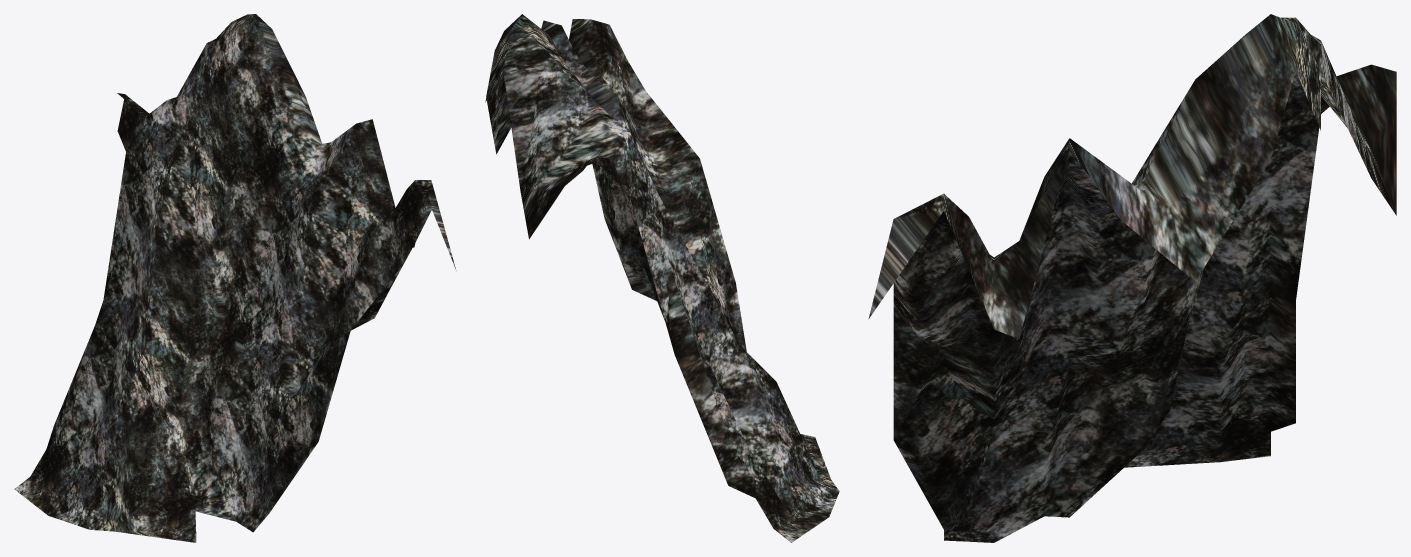
The model's file is OVERHILL_A_01_OBJECT10.fbx.
3 renders of one model, left to right at view 1: azimuth 30°, elevation 25°; view 2: azimuth 150°, elevation 25°; view 3: azimuth 270°, elevation 25°, orthographic. The views are drawn at different scales.
Parts seen in each view (by area): view 1: OVERHILL_A_01_OBJECT10; view 2: OVERHILL_A_01_OBJECT10; view 3: OVERHILL_A_01_OBJECT10.
Boxes of the visible parts, box(x1,y1,x2,y2) form: OVERHILL_A_01_OBJECT10: box(14, 14, 456, 542); OVERHILL_A_01_OBJECT10: box(485, 14, 839, 542); OVERHILL_A_01_OBJECT10: box(868, 14, 1396, 542).
Size of the model in its own units: 260387 by 338849 by 261770.
Materials: 1 (1 with a texture image).
